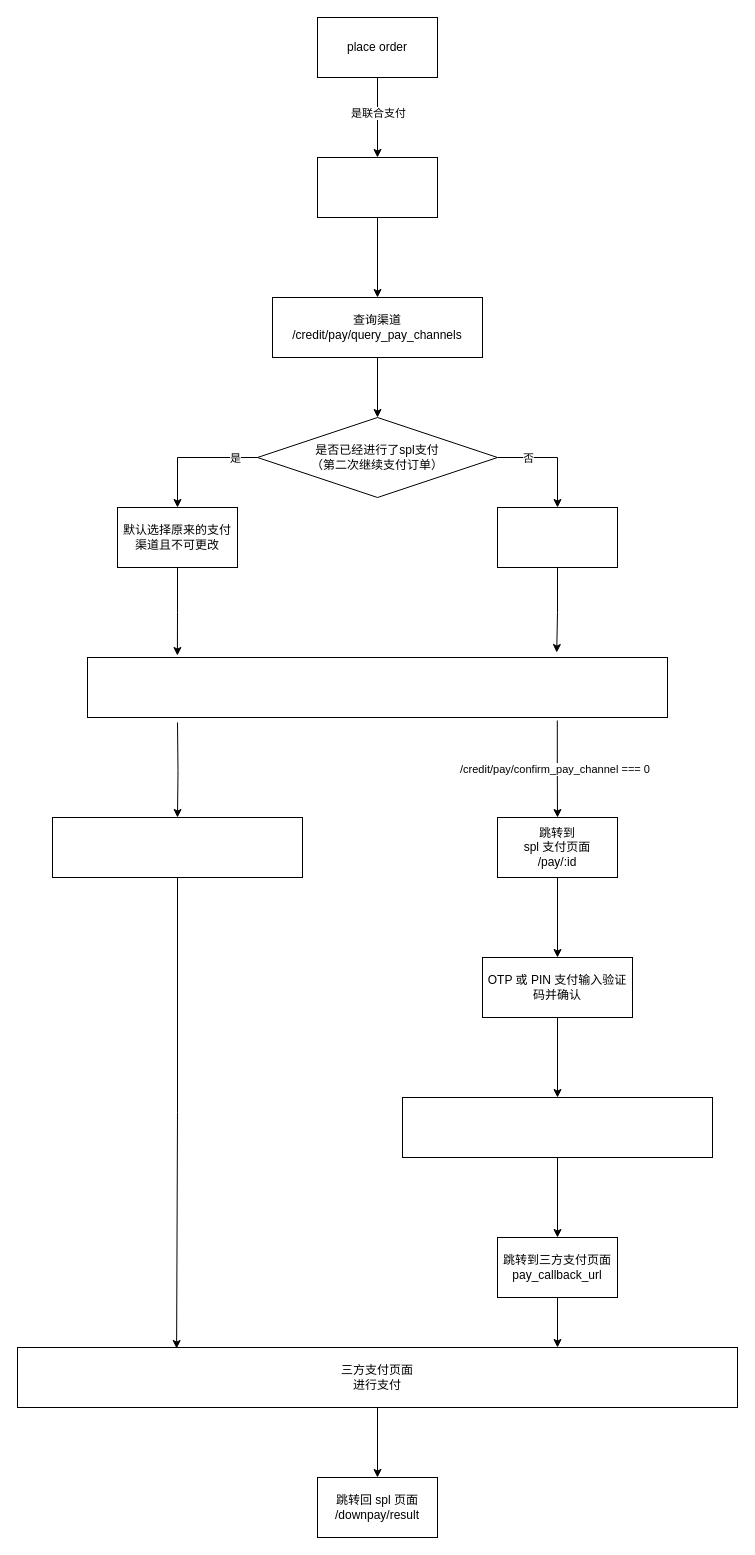
Image size: 755x1555. Some labels were removed from this diagram. The centre of each missing label's shape, as x and y in pixels:
"/downpay页面 点击Confirm" goes at pixel 377 687.
"调用 /credit/pay/check_commit_payment 接口 验证密码是否正确 若正确，且指示类型为联合支付" goes at pixel 557 1127.
"跳转到/downpay页面" goes at pixel 377 187.
"跳转到三方支付页面 downpayUrl 从 /credit/pay/query_pay_channels 接口获取" goes at pixel 177 847.
"选择一个支付渠道" goes at pixel 557 537.
